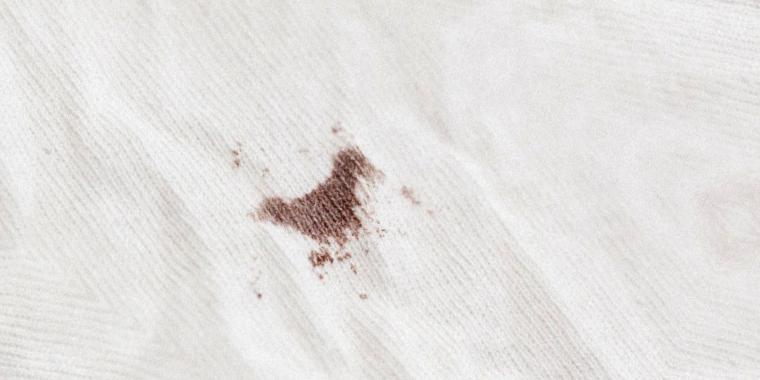stain: (253, 145, 386, 268)
